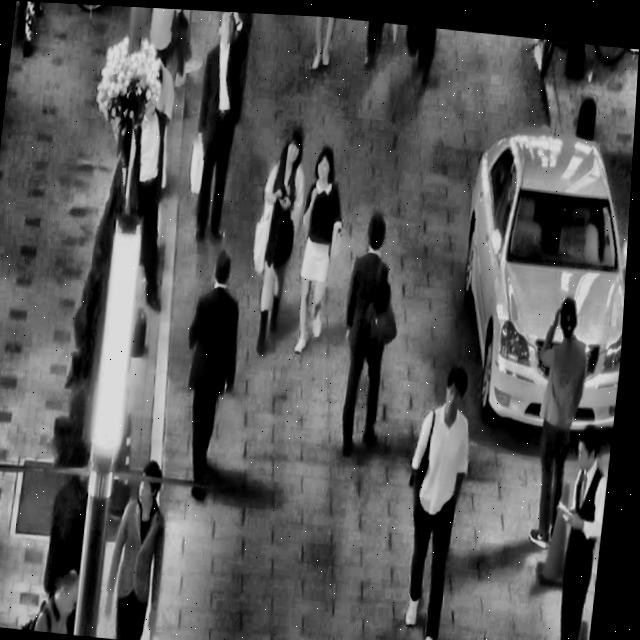light_vehicle: (444, 101, 636, 440)
